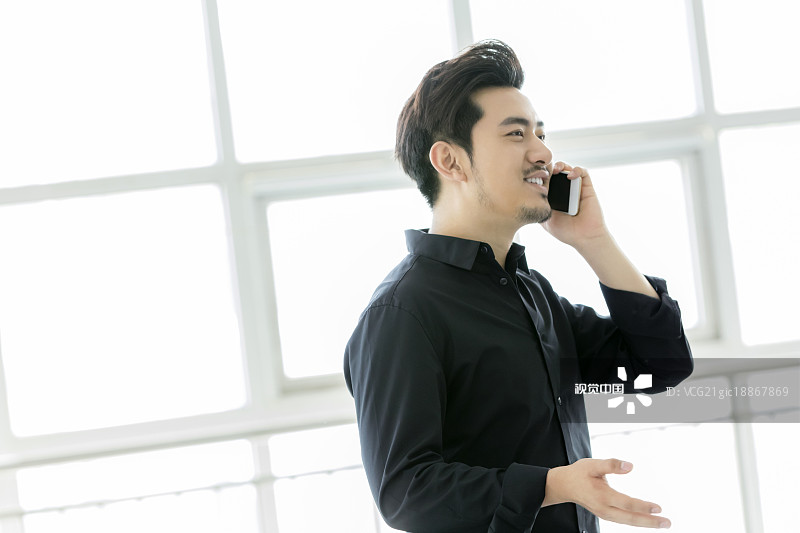calling: (515, 156, 652, 274)
no-phone: (501, 432, 717, 533)
